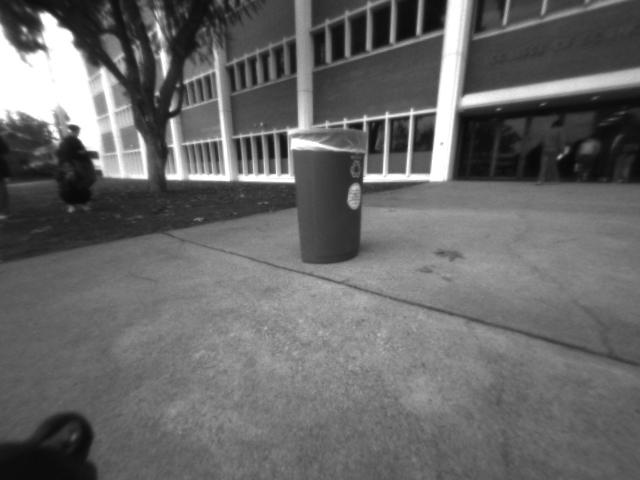trashcan: (284, 120, 373, 269)
